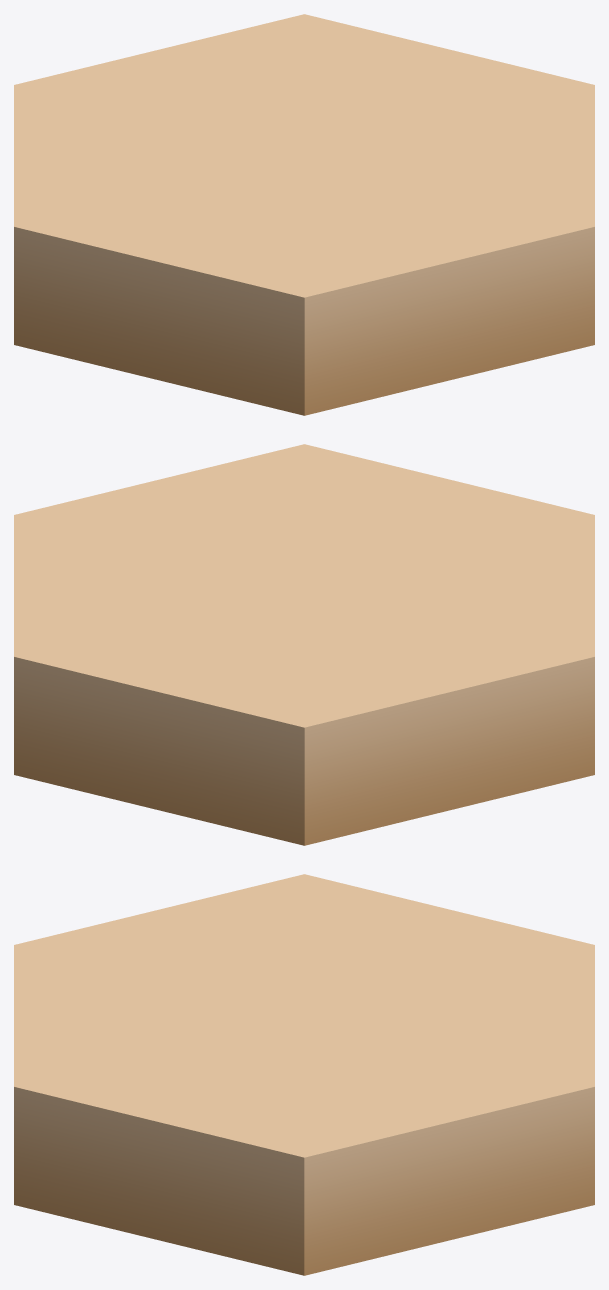
The model's file is lowpoly_spot_light_brown.fbx.
3 views of the same model, one above another, from view 1: azimuth 30°, elevation 25°; view 2: azimuth 150°, elevation 25°; view 3: azimuth 270°, elevation 25° (orthographic).
Parts seen in each view (by area): view 1: lowpoly_spot_light_brown; view 2: lowpoly_spot_light_brown; view 3: lowpoly_spot_light_brown.
Boxes of the visible parts, box(x1,y1,x2,y2) form: lowpoly_spot_light_brown: box(14, 14, 594, 415); lowpoly_spot_light_brown: box(14, 444, 594, 845); lowpoly_spot_light_brown: box(14, 874, 594, 1275).
Bounding box in the file's own units: 366 × 71.12 × 317.
Materials: 1 (1 with a texture image).
